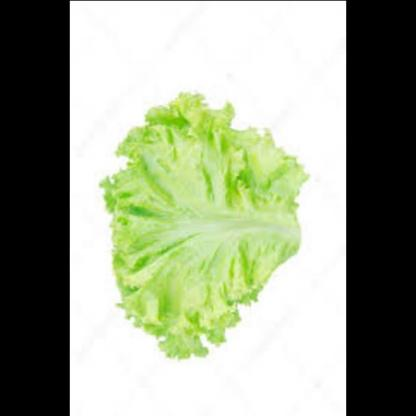salad: (94, 85, 310, 364)
